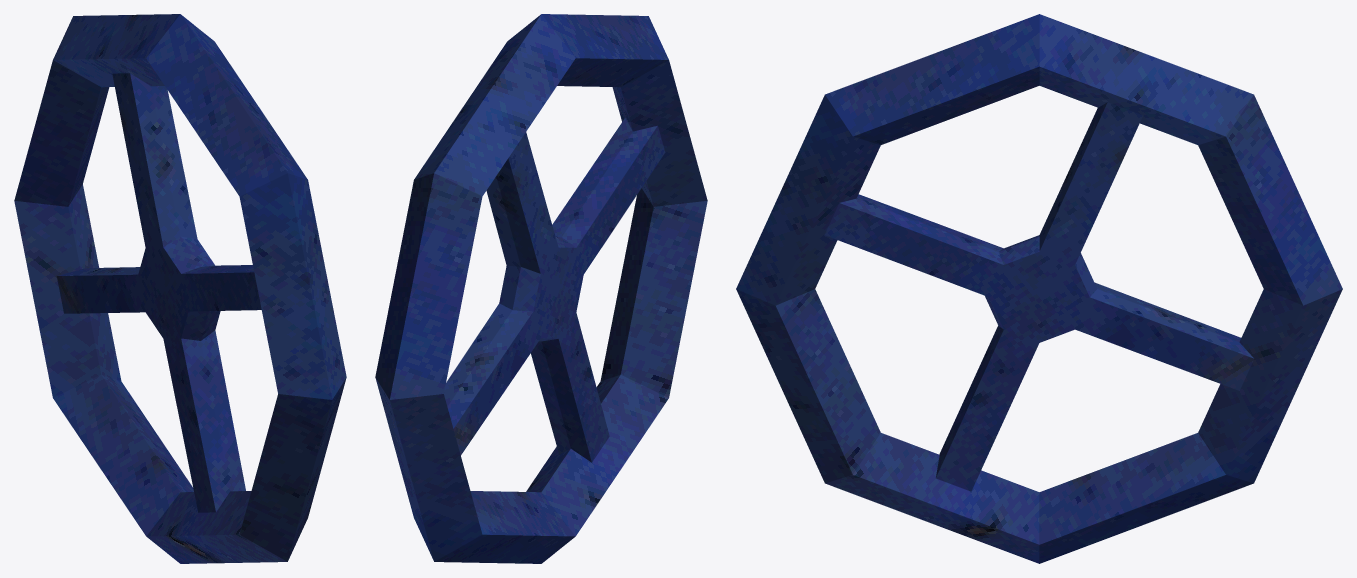
File: valve_blue.glb
3 renders of one model, left to right at view 1: azimuth 30°, elevation 25°; view 2: azimuth 150°, elevation 25°; view 3: azimuth 270°, elevation 25°, orthographic.
Visible parts, largest first — view 1: valve_blue; view 2: valve_blue; view 3: valve_blue.
Boxes of the visible parts, <box> form: valve_blue: <box>14,14,346,563</box>; valve_blue: <box>375,14,707,563</box>; valve_blue: <box>736,14,1342,563</box>.
Size of the model in its own units: 0.0544 by 0.4167 by 0.4167.
1 material, 1 textured.
